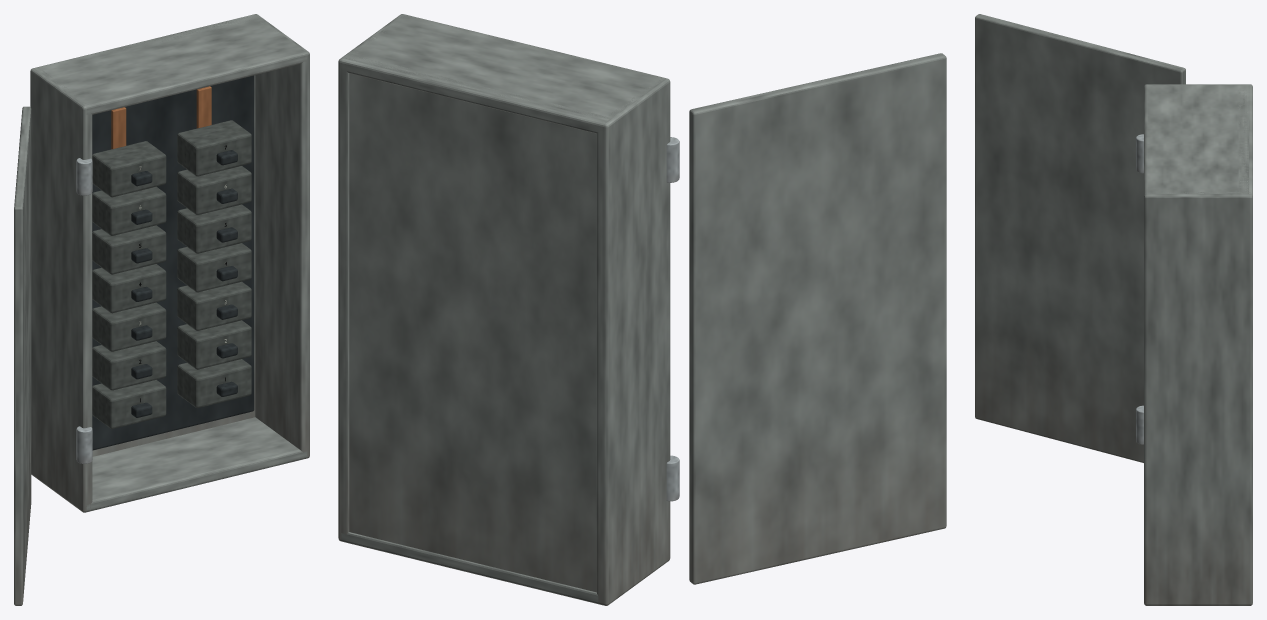
Rendered from GR_BreakerPanel_01.glb.
The picture shows the model from 3 angles, left to right: view 1: azimuth 30°, elevation 25°; view 2: azimuth 150°, elevation 25°; view 3: azimuth 270°, elevation 25°; orthographic projection. The views are drawn at different scales.
Visible parts, largest first — view 1: Static; view 2: Static; view 3: Static.
Part boxes in pixels (bbox=[...]): Static: bbox=[14, 14, 309, 605]; Static: bbox=[338, 14, 946, 605]; Static: bbox=[975, 14, 1252, 605].
Bounding box in the file's own units: 0.9728 × 1 × 0.6125.
1 material, 1 textured.
